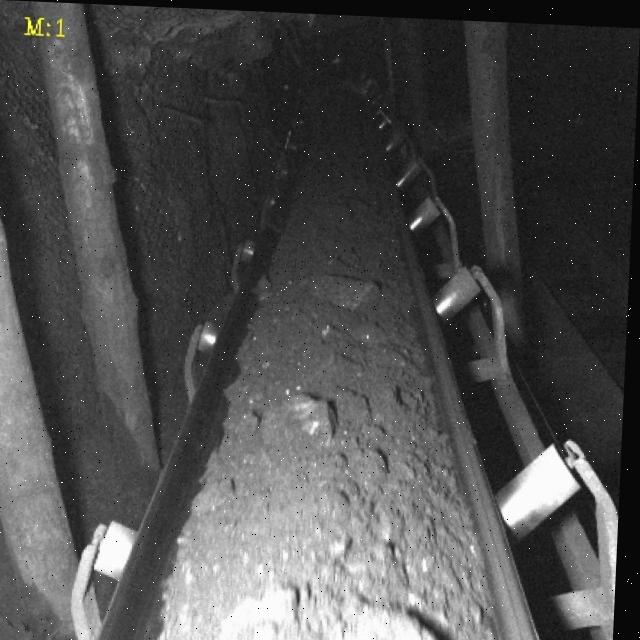large_sized_coal: (351, 601, 468, 640), (265, 389, 336, 443), (310, 267, 387, 311)
